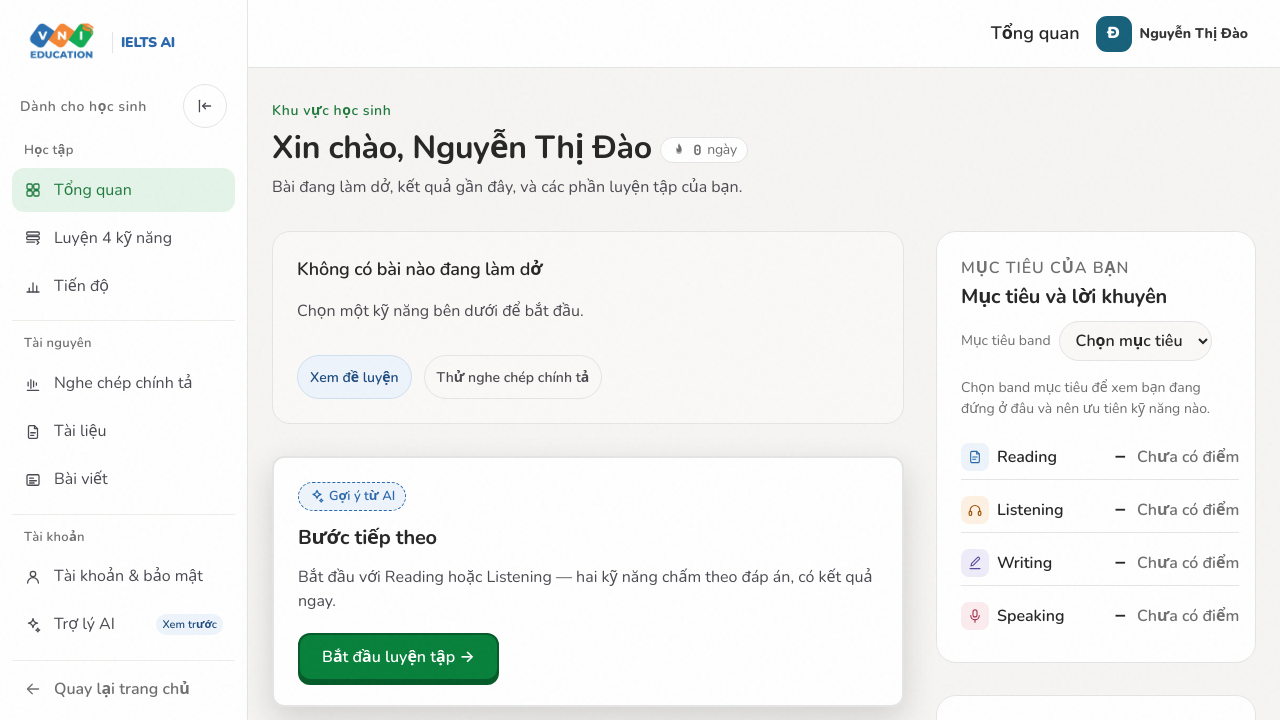
opens the AI panel from the rail and admits it is not connected
Expected: the heading "Xin chào, Nguyễn Thị Đào 0 ngày" is shown, [272, 126, 748, 169]
Expected: the heading "Không có bài nào đang làm dở" is shown, [297, 256, 542, 283]
Click the button "Trợ lý AI Xem trước" at (124, 625), box [12, 603, 235, 647]
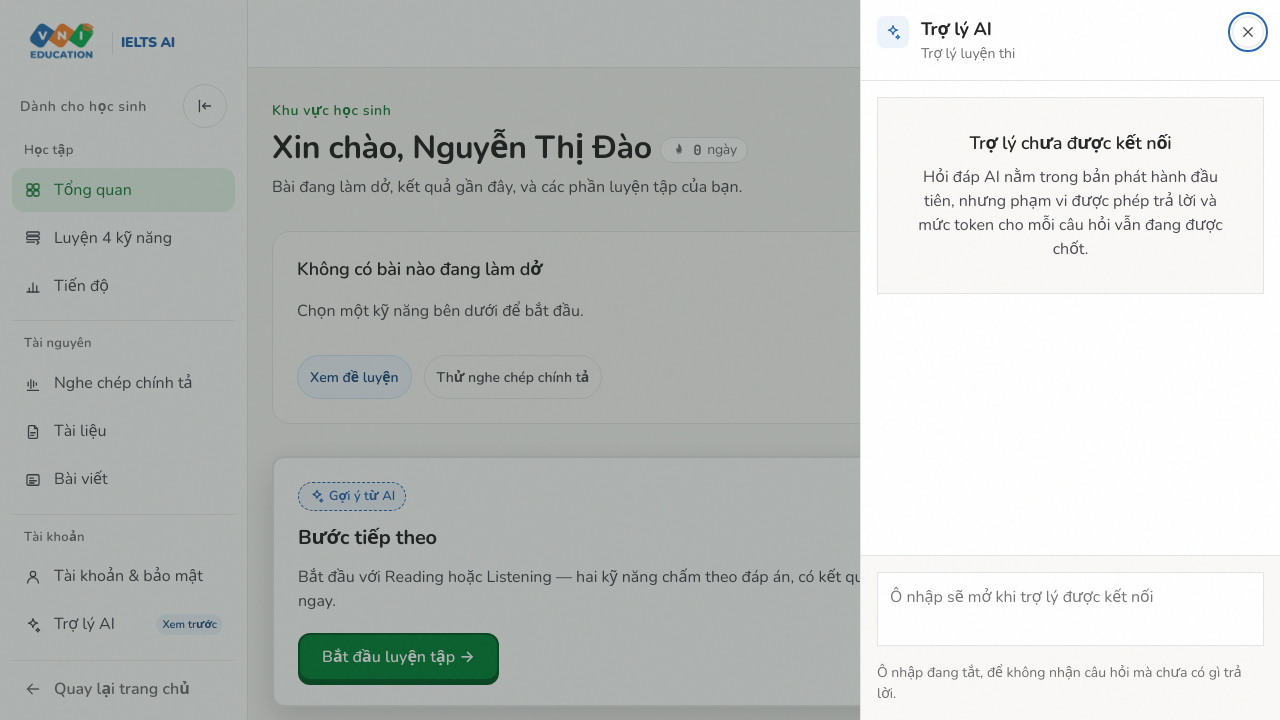
Expected: the heading "Trợ lý chưa được kết nối" is shown, [970, 131, 1172, 155]
Expected: the text box named "Câu hỏi cho trợ lý AI" is disabled, [877, 572, 1264, 646]
